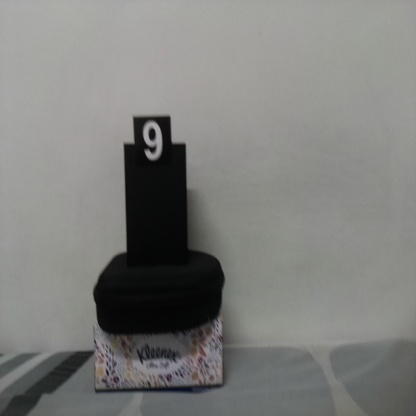id_9: (133, 117, 172, 176)
